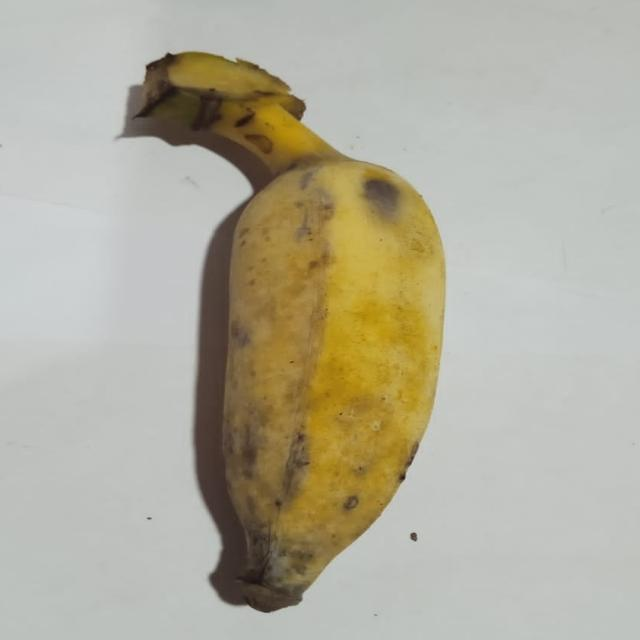banana: (142, 53, 444, 611)
